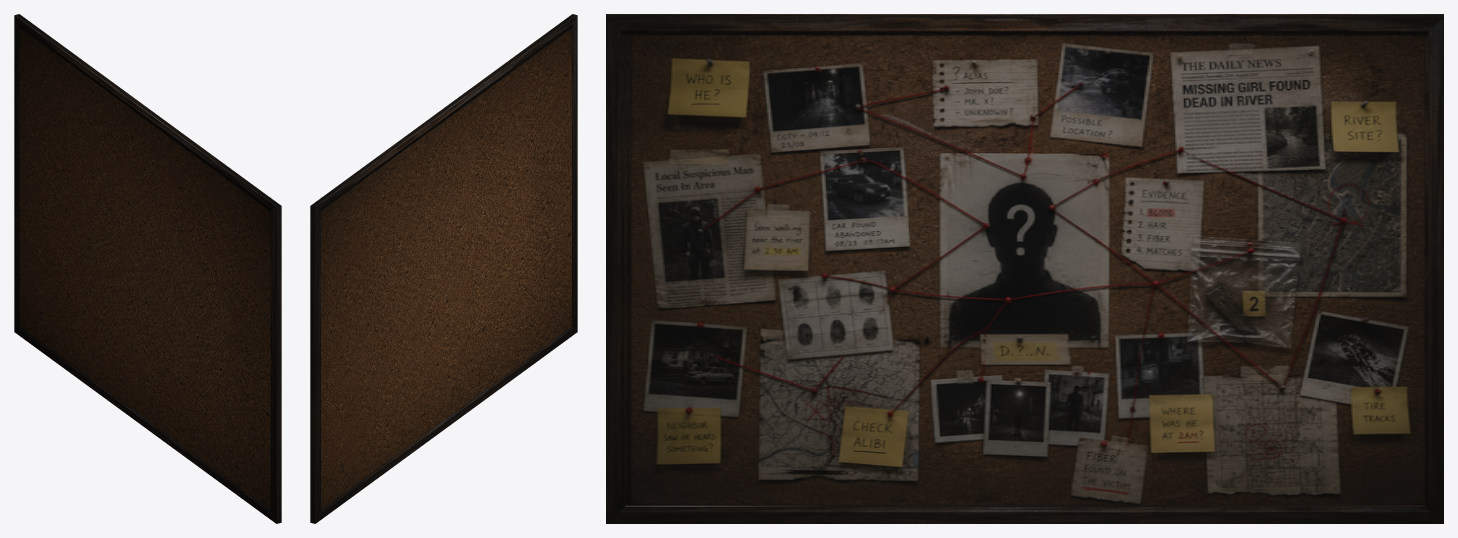
The model's file is background_police_evidence_board.glb.
The picture shows the model from 3 angles, left to right: view 1: azimuth 30°, elevation 25°; view 2: azimuth 150°, elevation 25°; view 3: azimuth 270°, elevation 25°; orthographic projection. The views are drawn at different scales.
Parts seen in each view (by area): view 1: Board; view 2: Board; view 3: Board.
Part boxes in pixels (bbox=[...]): Board: bbox=[14, 14, 281, 523]; Board: bbox=[310, 14, 577, 523]; Board: bbox=[606, 14, 1443, 523].
Size of the model in its own units: 0.23 by 13.31 by 19.97.
1 material, 1 textured.
